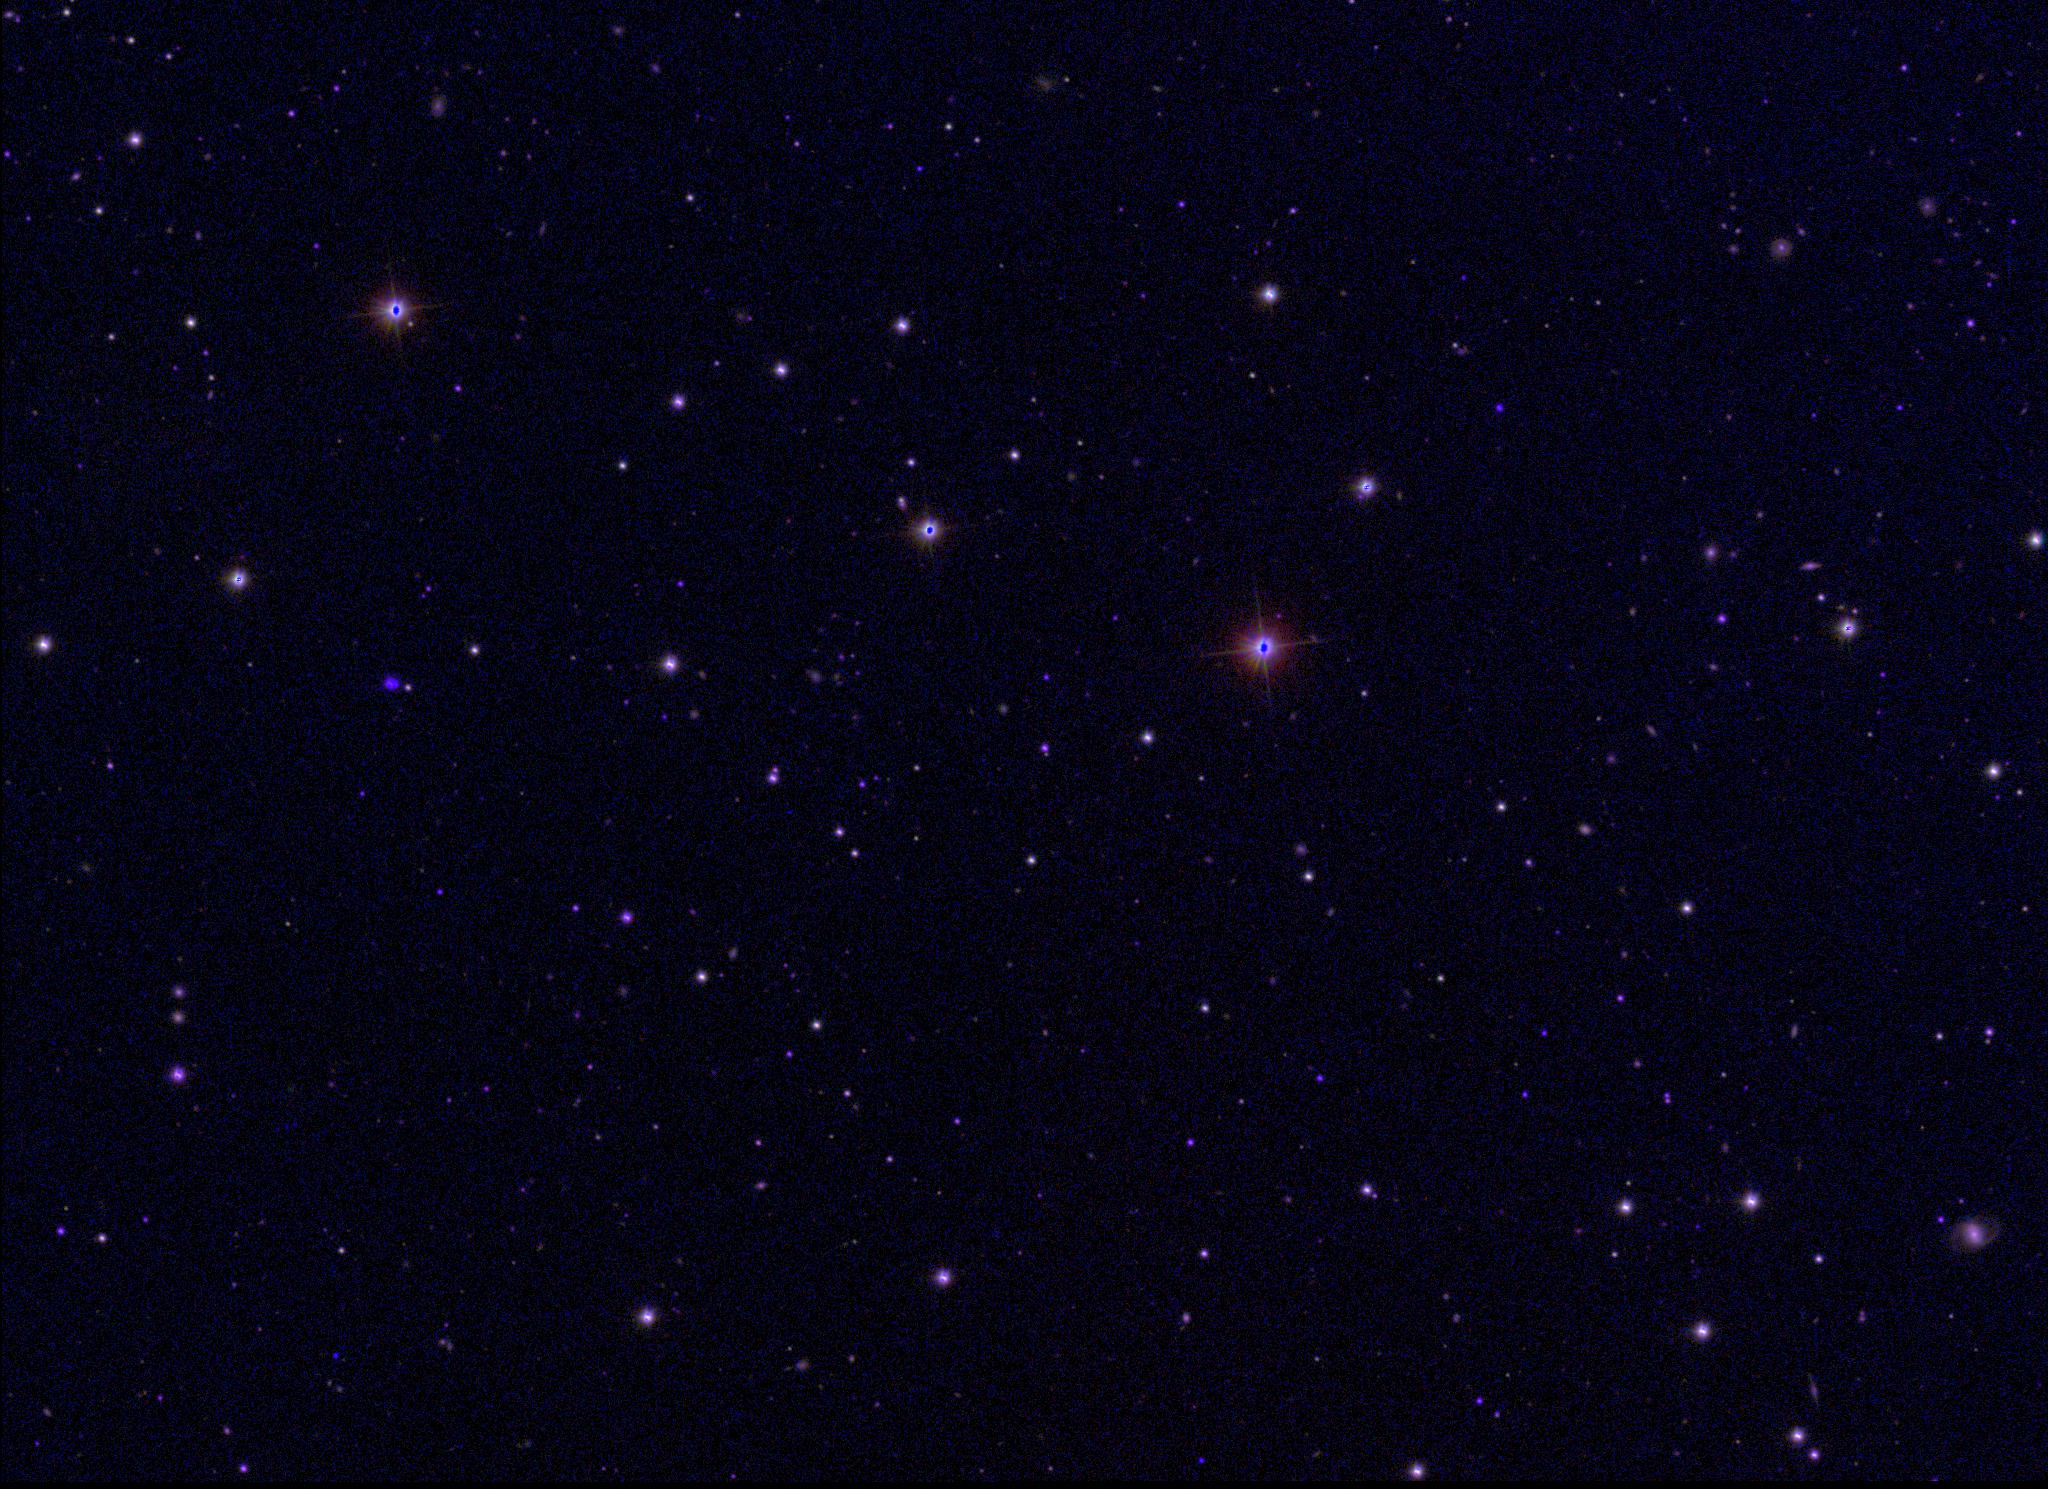L: (328, 1347, 342, 1362)
